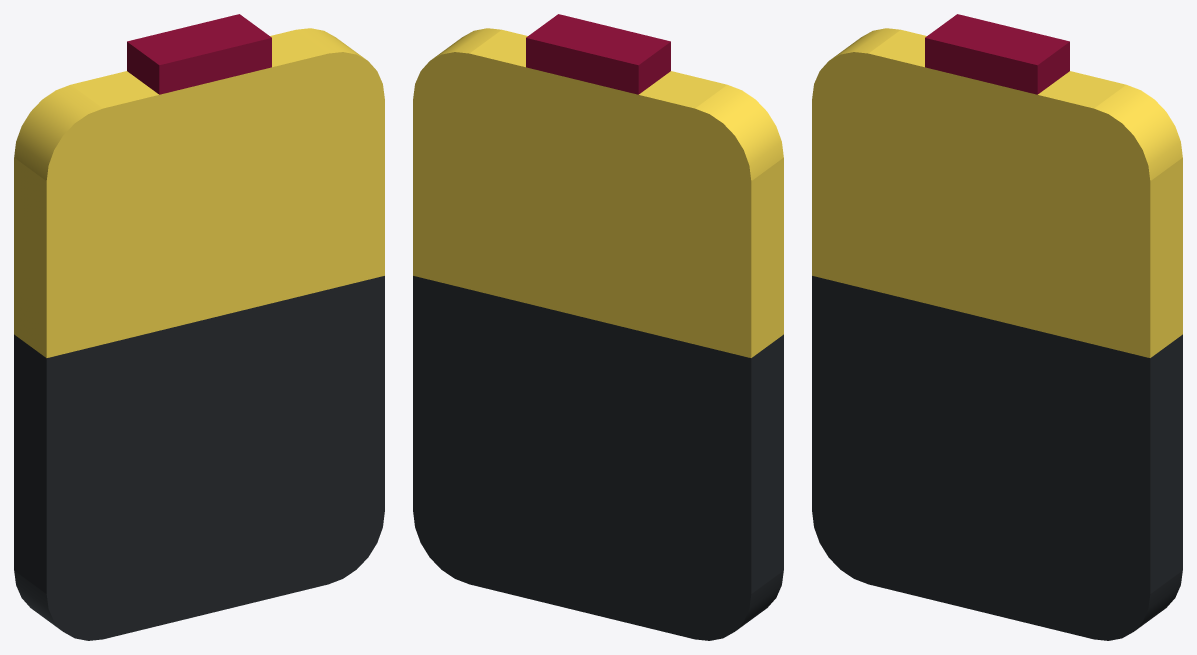
Rendered from Battery.fbx.
The picture shows the model from 3 angles, left to right: view 1: azimuth 30°, elevation 25°; view 2: azimuth 150°, elevation 25°; view 3: azimuth 330°, elevation 25°; orthographic projection.
Visible parts, largest first — view 1: generated; view 2: generated; view 3: generated.
Part boxes in pixels (<box>): generated: <box>14,14,384,640</box>; generated: <box>413,14,783,640</box>; generated: <box>812,14,1182,640</box>.
Size of the model in its own units: 60 by 95 by 10.
